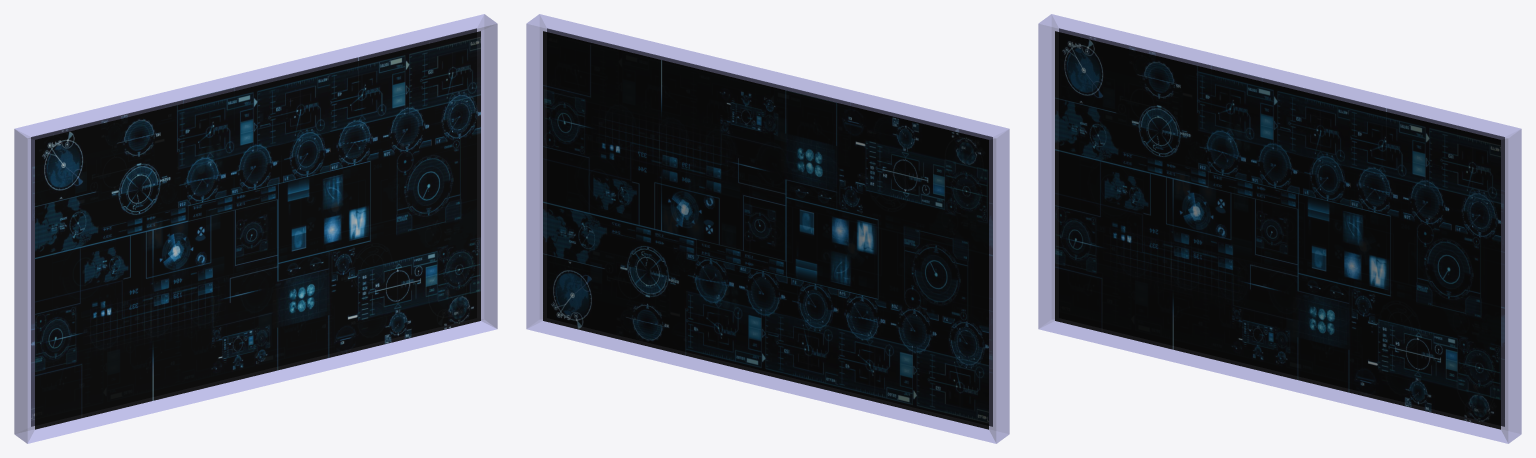
3 renders of one model, left to right at view 1: azimuth 30°, elevation 25°; view 2: azimuth 150°, elevation 25°; view 3: azimuth 330°, elevation 25°, orthographic.
Visible parts, largest first — view 1: pCube3; view 2: pCube3; view 3: pCube3.
Boxes of the visible parts, x1=… form: pCube3: x1=14, y1=14, x2=497, y2=443; pCube3: x1=526, y1=14, x2=1009, y2=443; pCube3: x1=1038, y1=14, x2=1521, y2=443.
Bounding box in the file's own units: 14.76 × 9.17 × 0.7175.
Materials: 2 (1 with a texture image).
